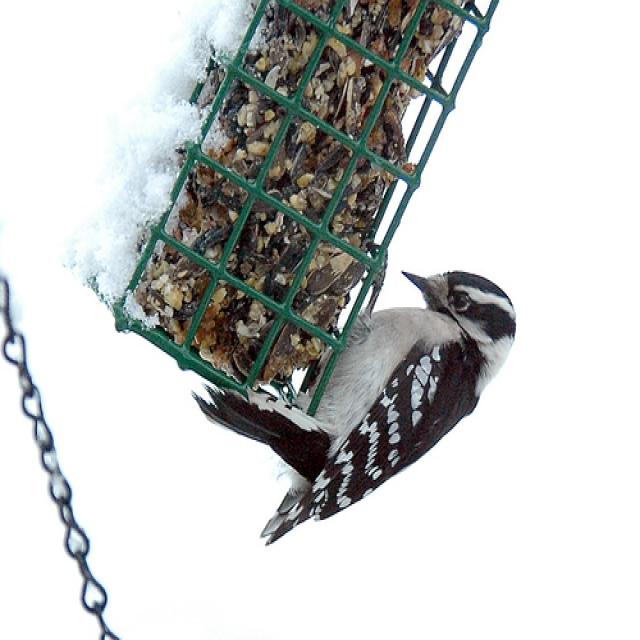bird: (194, 268, 516, 539)
